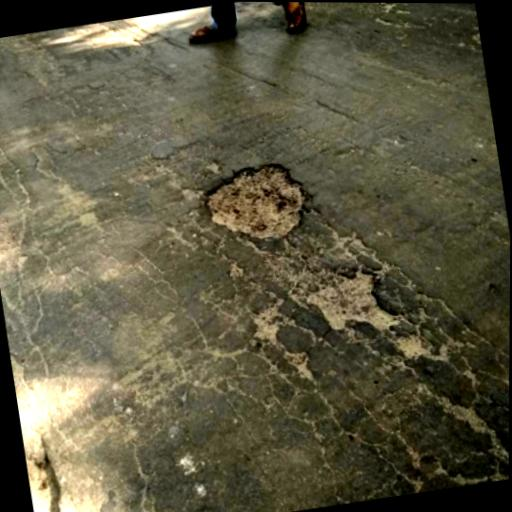pothole: (200, 153, 317, 249), (303, 260, 408, 339)
